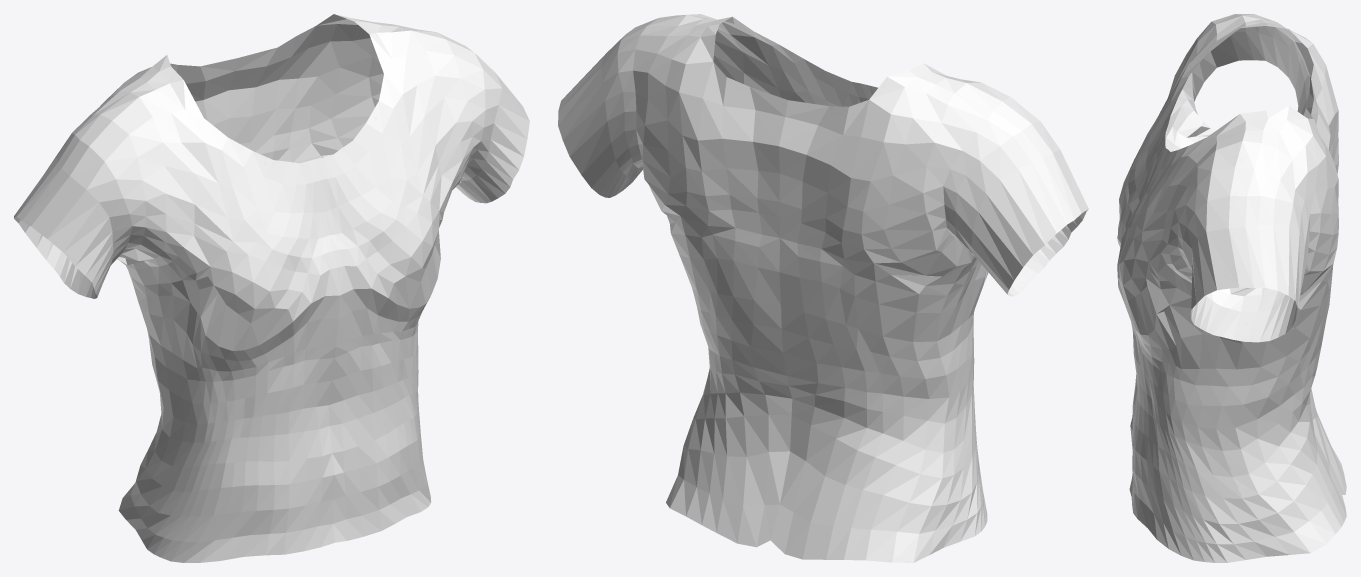
Rendered from mhw_joepal_crude_t-shirt_female.glb.
The picture shows the model from 3 angles, left to right: view 1: azimuth 30°, elevation 25°; view 2: azimuth 150°, elevation 25°; view 3: azimuth 270°, elevation 25°; orthographic projection. The views are drawn at different scales.
Visible parts, largest first — view 1: mhw_joepal_crude_t-shirt_female; view 2: mhw_joepal_crude_t-shirt_female; view 3: mhw_joepal_crude_t-shirt_female.
Boxes of the visible parts, <box> form: mhw_joepal_crude_t-shirt_female: <box>14,14,529,562</box>; mhw_joepal_crude_t-shirt_female: <box>558,14,1088,562</box>; mhw_joepal_crude_t-shirt_female: <box>1117,14,1346,562</box>.
Bounding box in the file's own units: 0.6237 × 0.5542 × 0.2654.
Materials: 1 (1 with a texture image).
